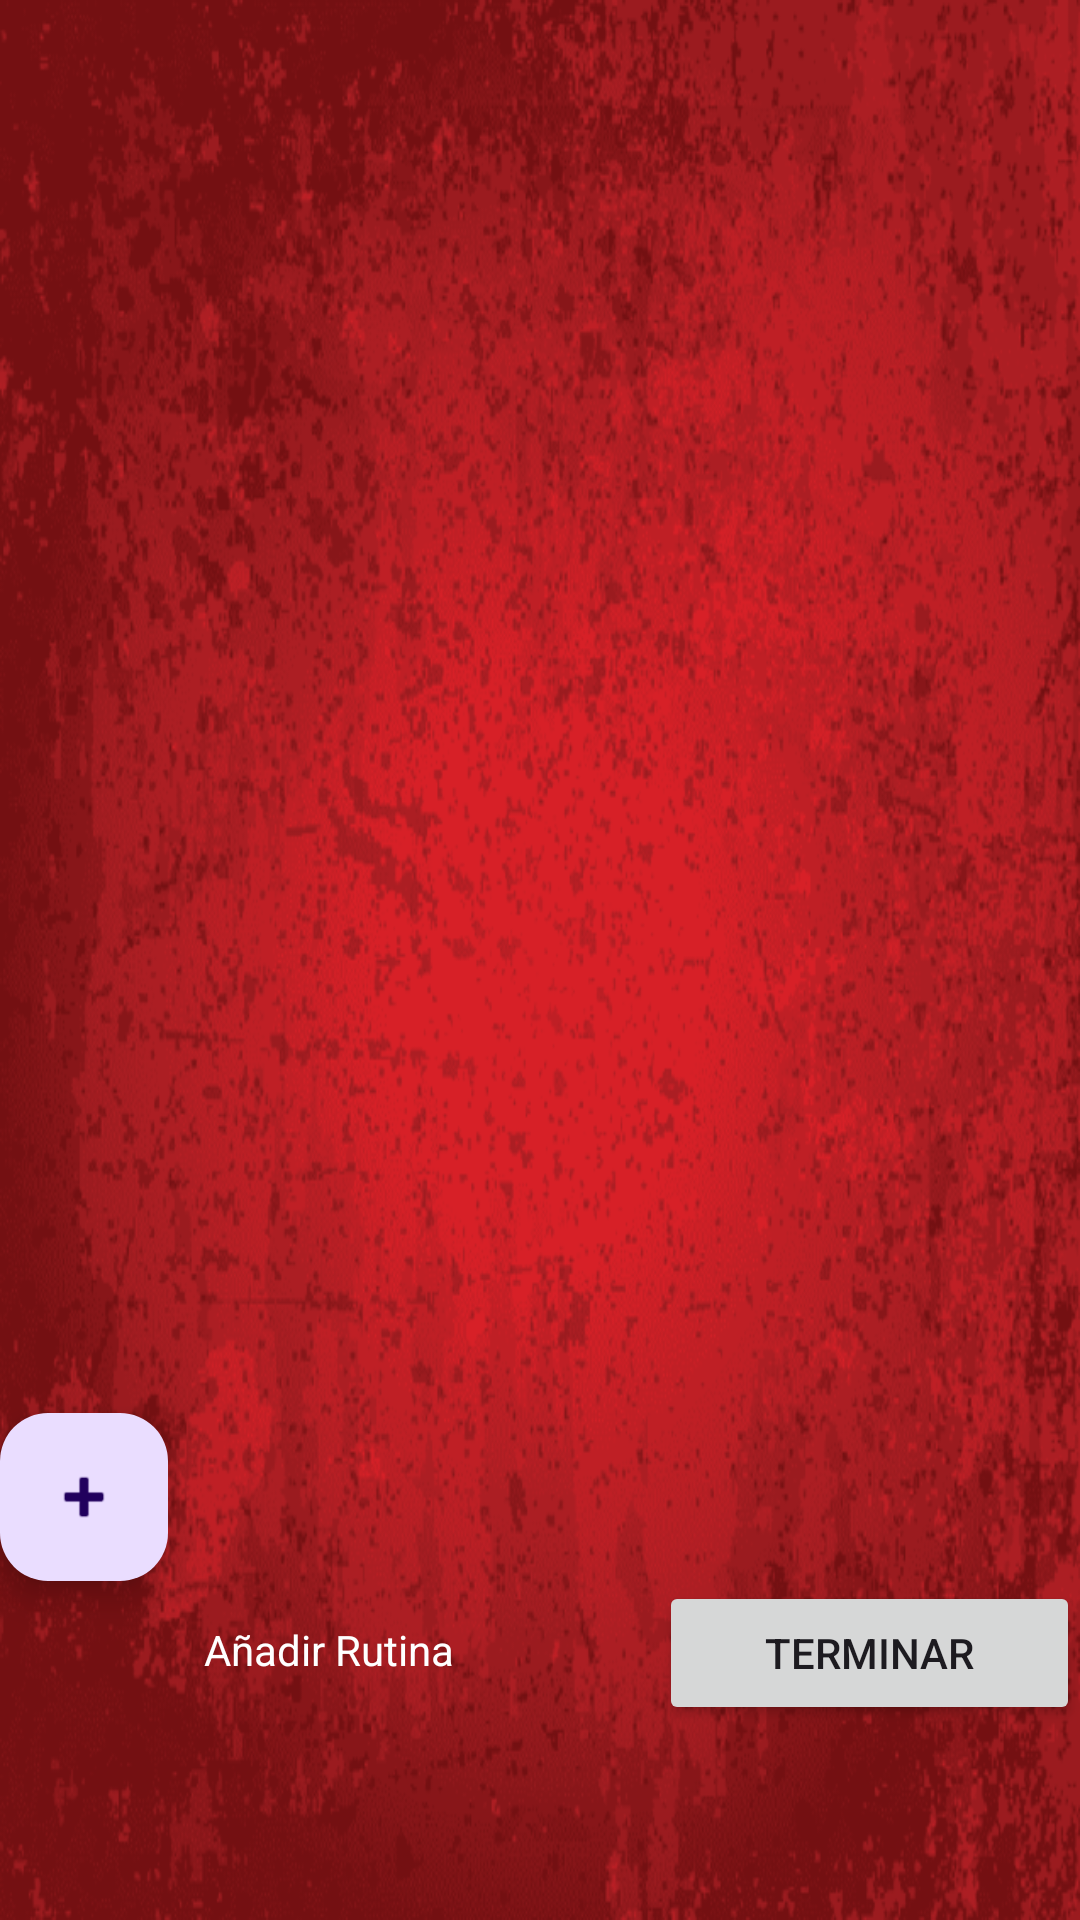

Where icons sit on this 1080px x 1920px app screen, as {"left": x1, "top": y1, "right": x2, "bottom": y2}:
add: {"left": 0, "top": 1413, "right": 168, "bottom": 1581}
